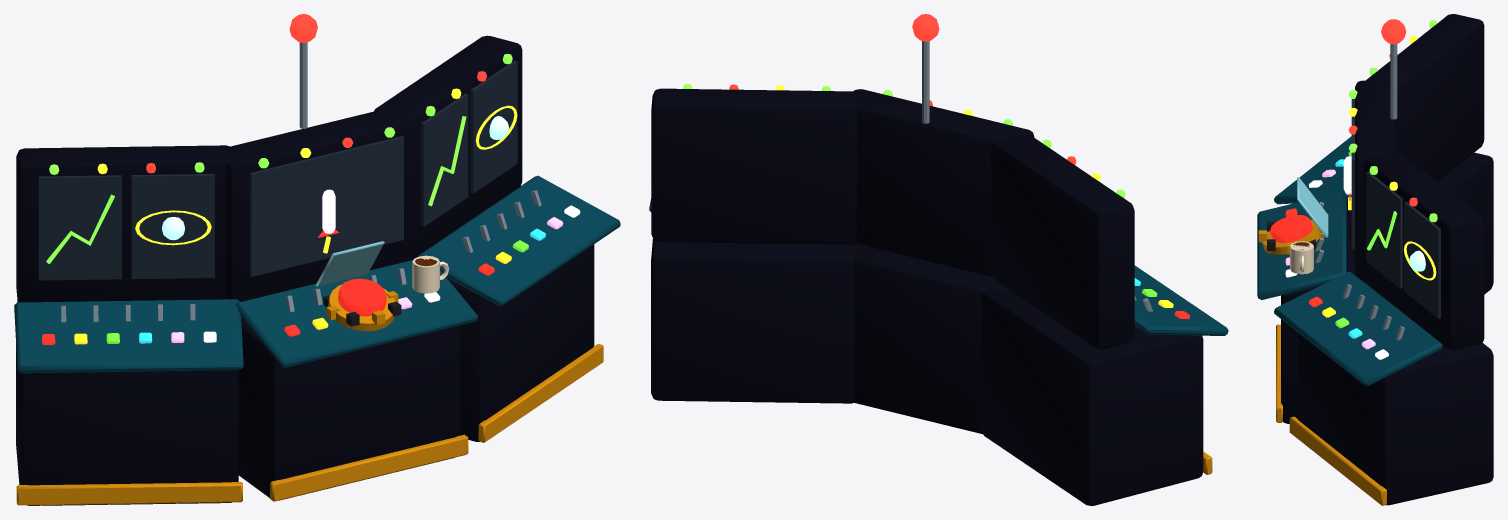
File: MissionConsole.fbx
The picture shows the model from 3 angles, left to right: view 1: azimuth 30°, elevation 25°; view 2: azimuth 150°, elevation 25°; view 3: azimuth 270°, elevation 25°; orthographic projection. The views are drawn at different scales.
Visible parts, largest first — view 1: MissionConsole; view 2: MissionConsole; view 3: MissionConsole.
Part boxes in pixels (x1,y1,x2,y2): MissionConsole: (14, 14, 620, 505); MissionConsole: (649, 14, 1228, 505); MissionConsole: (1257, 14, 1493, 505).
Bounding box in the file's own units: 8.61 × 5.73 × 3.35.
